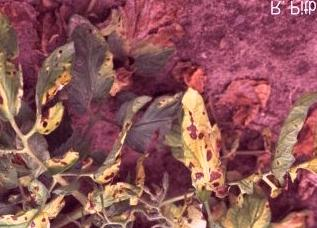Tomato Early blight leaf: (25, 46, 79, 134), (184, 92, 223, 197), (95, 109, 149, 181), (0, 15, 30, 124), (0, 188, 75, 228)
